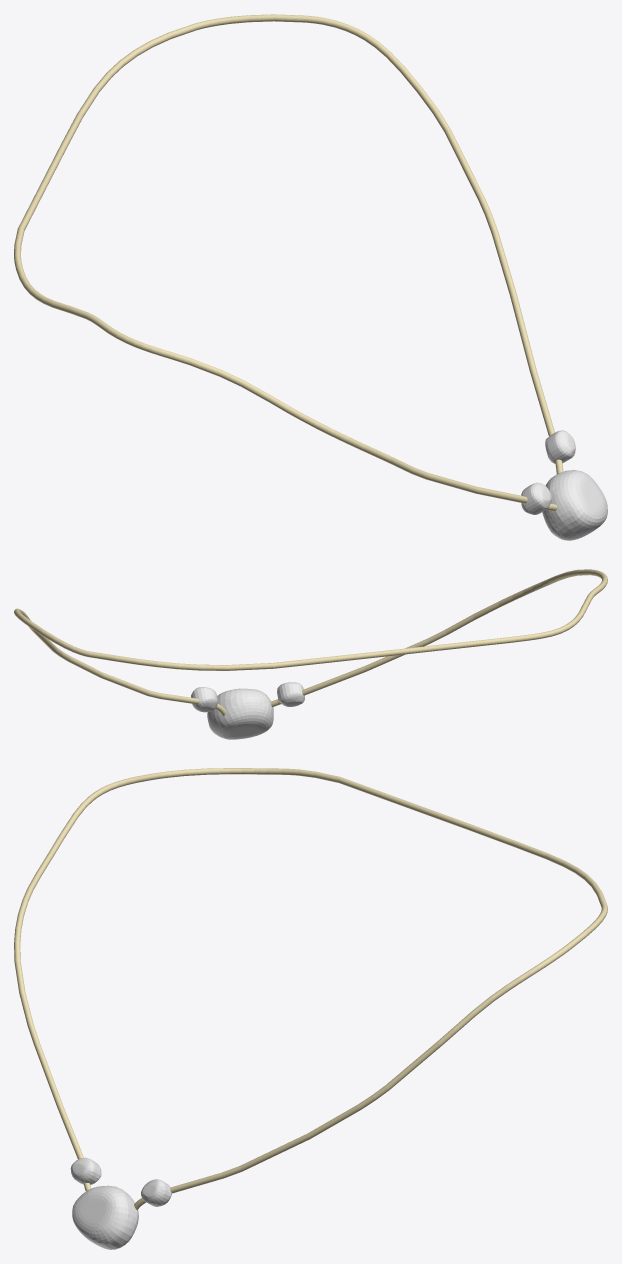
Rendered from COSSACK_PENDANT_4#10.glb.
The picture shows the model from 3 angles, top to bottom: view 1: azimuth 30°, elevation 25°; view 2: azimuth 150°, elevation 25°; view 3: azimuth 270°, elevation 25°; orthographic projection. The views are drawn at different scales.
Visible parts, largest first — view 1: ожерелье.3-metal5, ожерелье.3-PM3D_Cylinder3D1_2; view 2: ожерелье.3-metal5, ожерелье.3-PM3D_Cylinder3D1_2; view 3: ожерелье.3-metal5, ожерелье.3-PM3D_Cylinder3D1_2.
Part boxes in pixels (<box>): ожерелье.3-metal5: <box>14,14,563,510</box>; ожерелье.3-PM3D_Cylinder3D1_2: <box>521,430,607,540</box>; ожерелье.3-metal5: <box>14,569,607,715</box>; ожерелье.3-PM3D_Cylinder3D1_2: <box>191,682,304,739</box>; ожерелье.3-metal5: <box>14,768,607,1210</box>; ожерелье.3-PM3D_Cylinder3D1_2: <box>70,1157,172,1249</box>.
Bounding box in the file's own units: 1.69 × 1.01 × 1.81.
